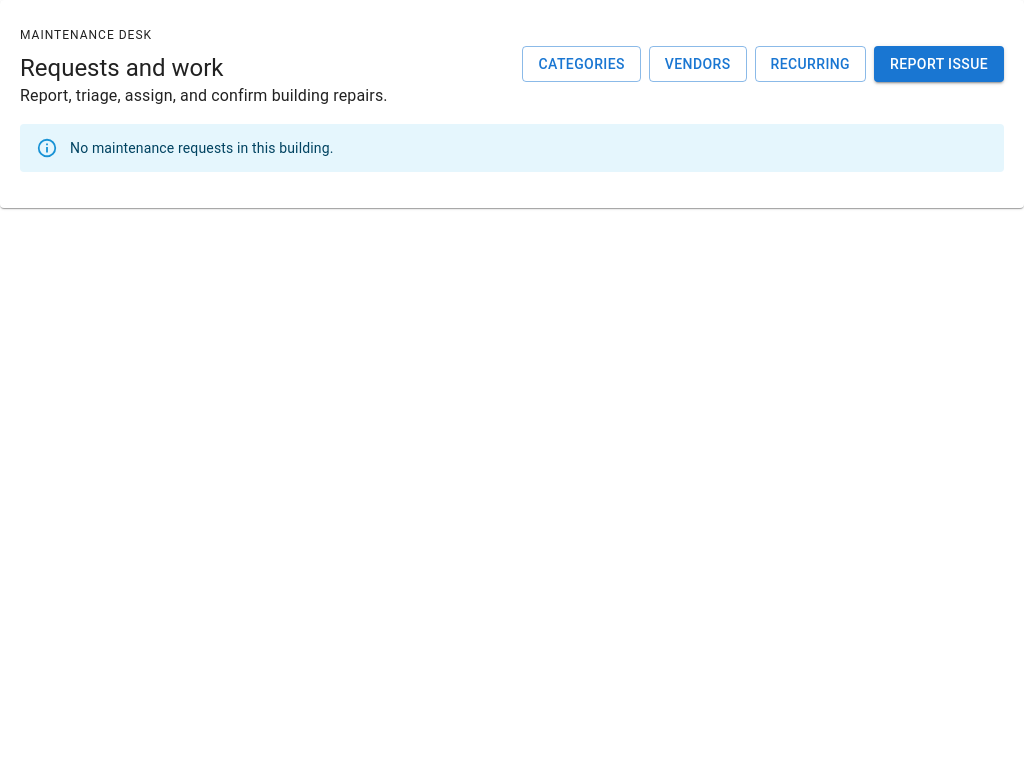
Test: returns the vendor form to add mode when an edit is cancelled
The image size is (1024, 768).
Click the button "Vendors".
click(698, 64)  # box [649,46,747,82]
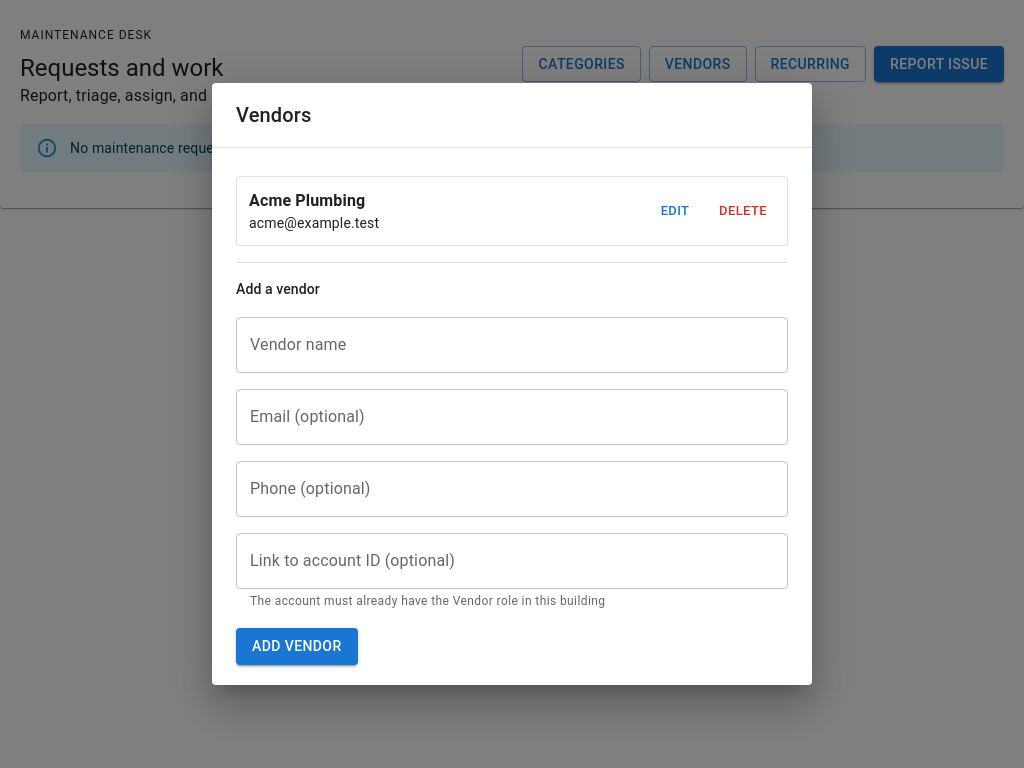
Click the button with aria-label "Edit vendor Acme Plumbing".
click(675, 211)  # box [643,196,707,227]
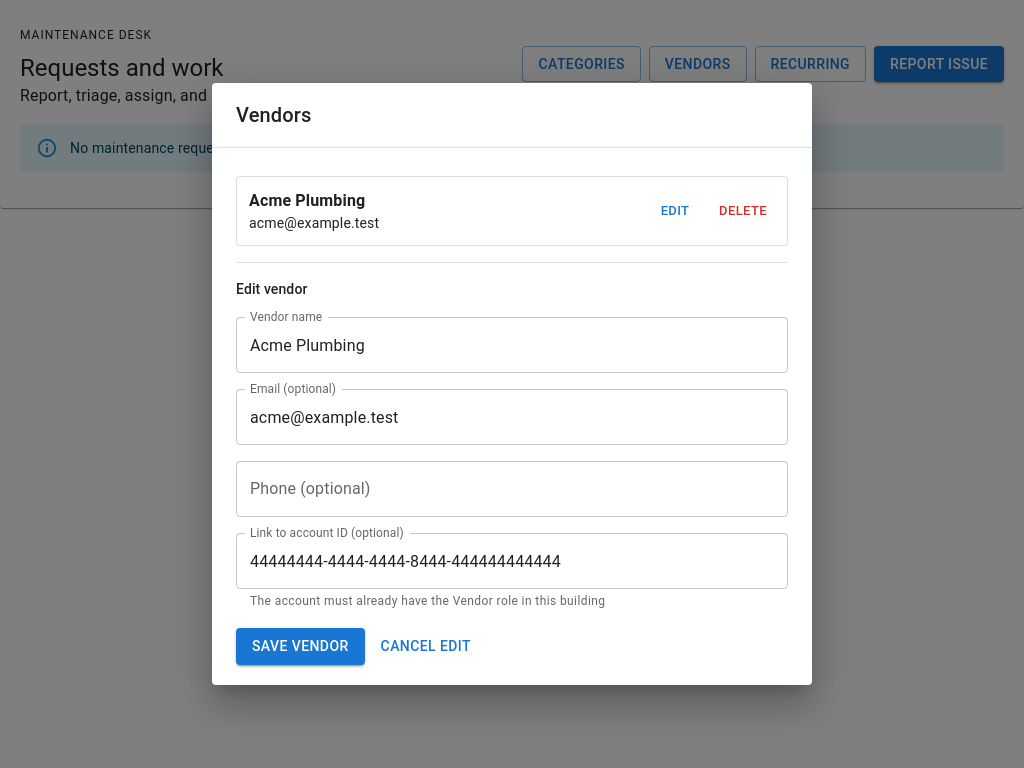
Click the button "Cancel edit".
click(426, 646)  # box [373,628,479,665]
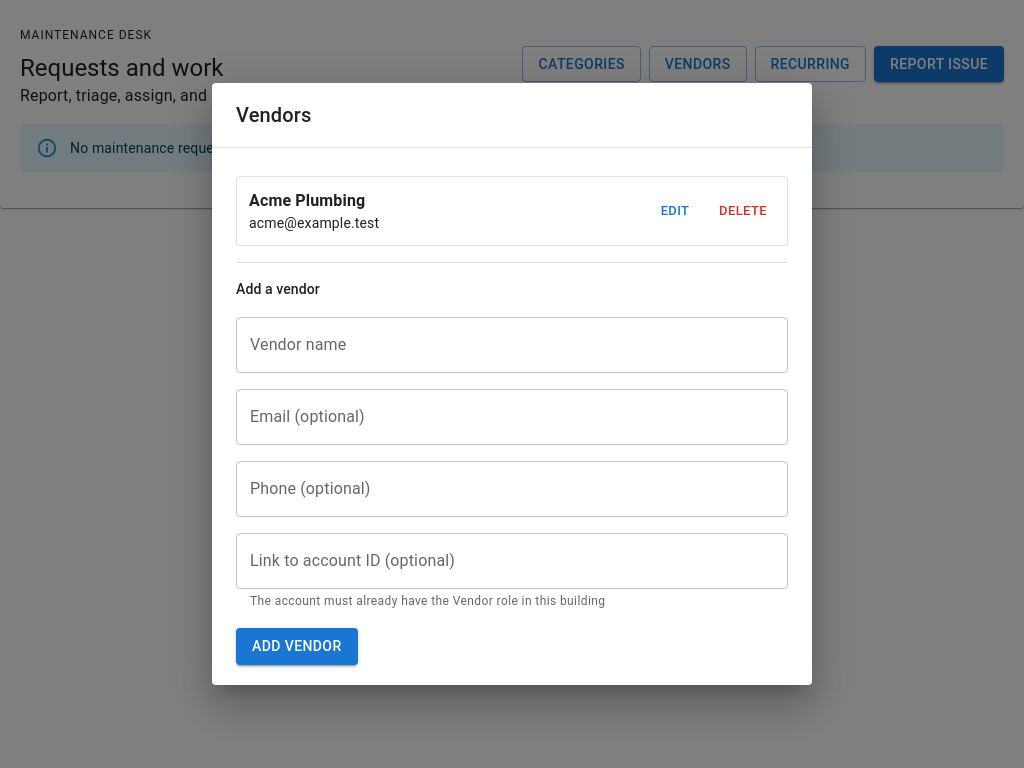
Expected: the heading "Add a vendor" is shown, [236,281,320,297]
Expected: the field labelled "Vendor name" is empty, [236,317,788,373]
